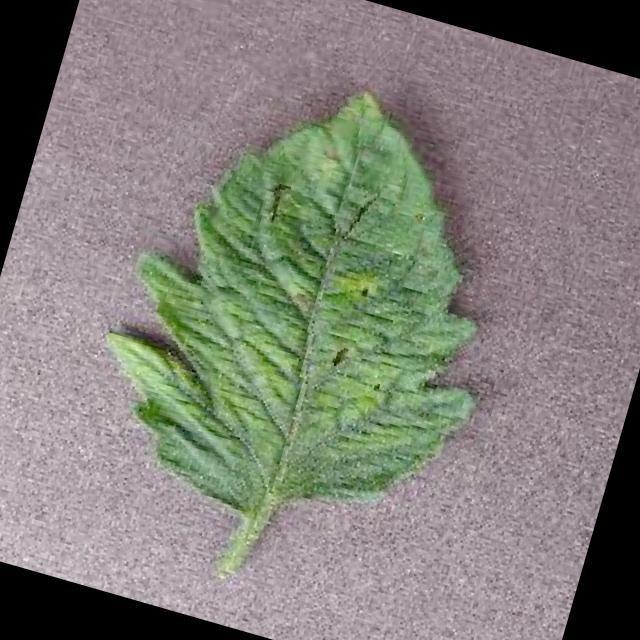Tomato mosaic virus leaf: (67, 36, 553, 568)
